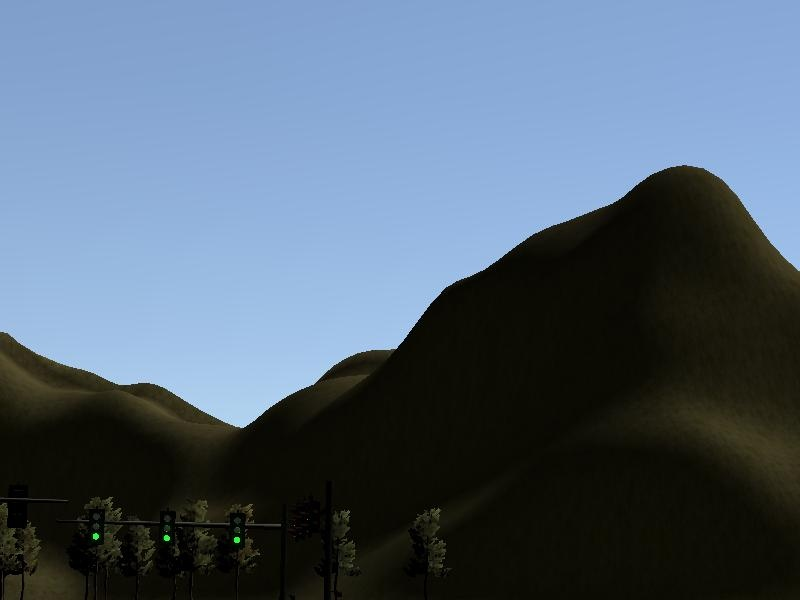green: (88, 509, 103, 545), (161, 511, 176, 547), (230, 513, 245, 549)
